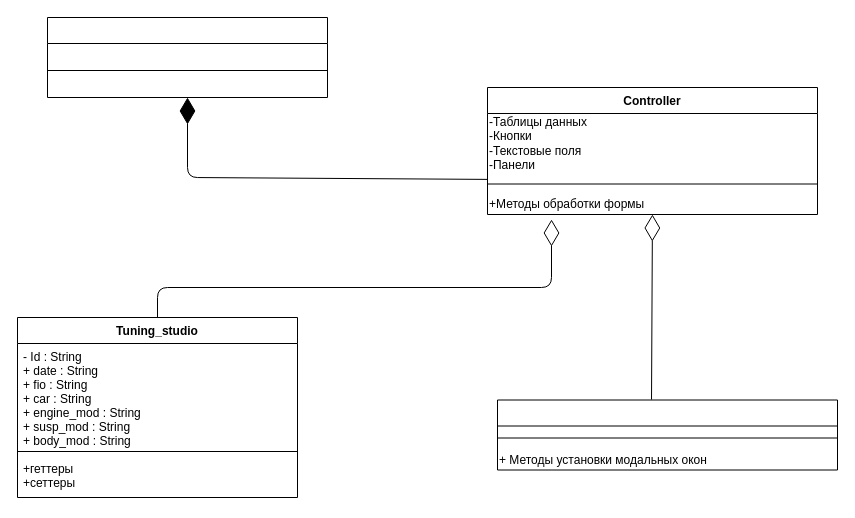
This 855x518 diagram has some shape labels left out. Here are the shapes that lost their labels. From the top down, the box of each, then its label:
(46, 16, 328, 98): Main
(496, 399, 838, 470): Modal_window
